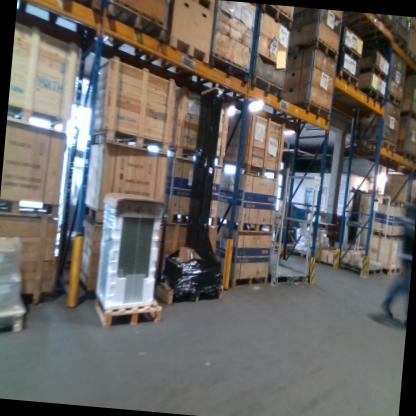pallet: (90, 290, 164, 334), (101, 0, 170, 44), (88, 122, 172, 156), (152, 271, 225, 309), (6, 100, 70, 135), (0, 194, 60, 222), (285, 34, 339, 63), (212, 266, 269, 292), (165, 35, 211, 66), (167, 144, 225, 168), (0, 294, 28, 342), (208, 52, 250, 84), (214, 216, 275, 238), (222, 161, 281, 183), (161, 208, 219, 229), (257, 4, 295, 32), (17, 0, 104, 12), (250, 72, 286, 100), (288, 100, 332, 122), (349, 136, 401, 154), (82, 201, 110, 228), (173, 0, 216, 17), (334, 66, 361, 93), (338, 261, 383, 276), (357, 84, 386, 107), (358, 63, 389, 84), (370, 226, 405, 242), (338, 43, 362, 65), (377, 15, 399, 37), (385, 89, 403, 109), (285, 248, 311, 261), (395, 149, 416, 164), (382, 265, 404, 279), (393, 32, 410, 50), (400, 109, 416, 122), (404, 47, 416, 64), (408, 22, 416, 36)
